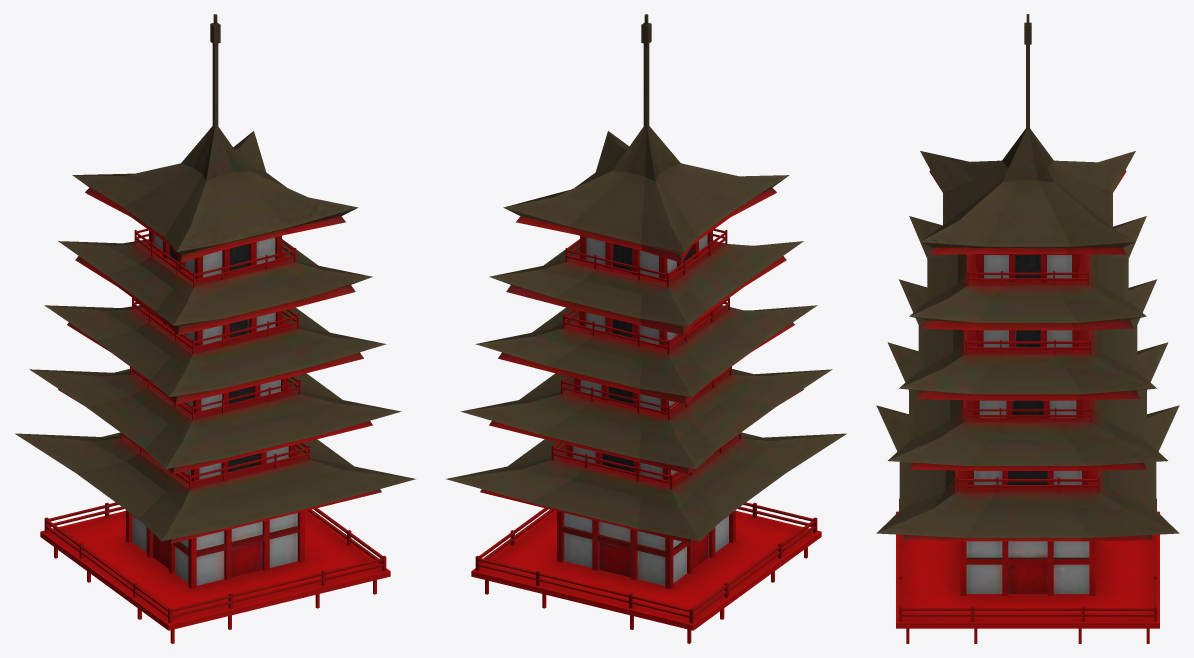
The model's file is pagoda.glb.
3 views of the same model, side by side, from view 1: azimuth 30°, elevation 25°; view 2: azimuth 150°, elevation 25°; view 3: azimuth 270°, elevation 25° (orthographic). The views are drawn at different scales.
Visible parts, largest first — view 1: Pagoda_mesh; view 2: Pagoda_mesh; view 3: Pagoda_mesh.
Part boxes in pixels (left/top/right/bottom): Pagoda_mesh: left=15, top=14, right=415, bottom=643; Pagoda_mesh: left=446, top=14, right=846, bottom=643; Pagoda_mesh: left=876, top=14, right=1179, bottom=643.
Size of the model in its own units: 26.41 by 55.5 by 26.41.
Materials: 1 (1 with a texture image).
